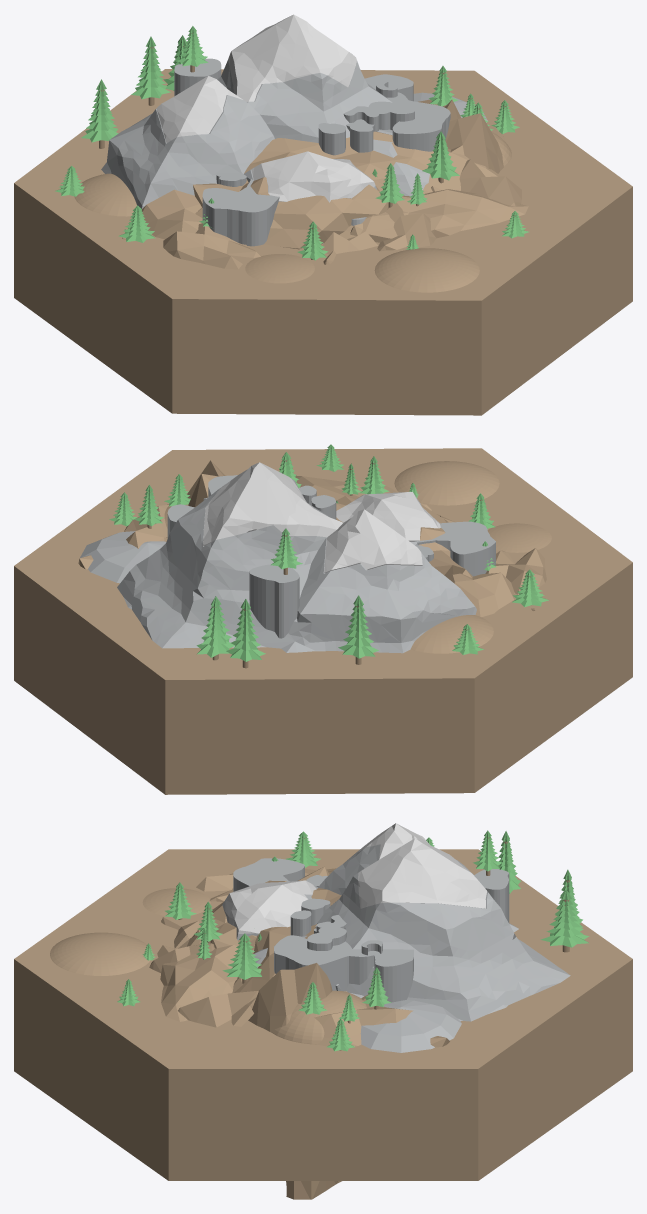
File: mounts_1.glb
The picture shows the model from 3 angles, top to bottom: view 1: azimuth 30°, elevation 25°; view 2: azimuth 150°, elevation 25°; view 3: azimuth 270°, elevation 25°; orthographic projection. The views are drawn at different scales.
Visible parts, largest first — view 1: Mesh_Mesh_head_geo.001_lambert2SG.001; view 2: Mesh_Mesh_head_geo.001_lambert2SG.001; view 3: Mesh_Mesh_head_geo.001_lambert2SG.001.
Part boxes in pixels (left/top/right/bottom): Mesh_Mesh_head_geo.001_lambert2SG.001: left=14, top=14, right=632, bottom=415; Mesh_Mesh_head_geo.001_lambert2SG.001: left=14, top=444, right=632, bottom=794; Mesh_Mesh_head_geo.001_lambert2SG.001: left=14, top=823, right=632, bottom=1199.
Bounding box in the file's own units: 84 × 49 × 100.
